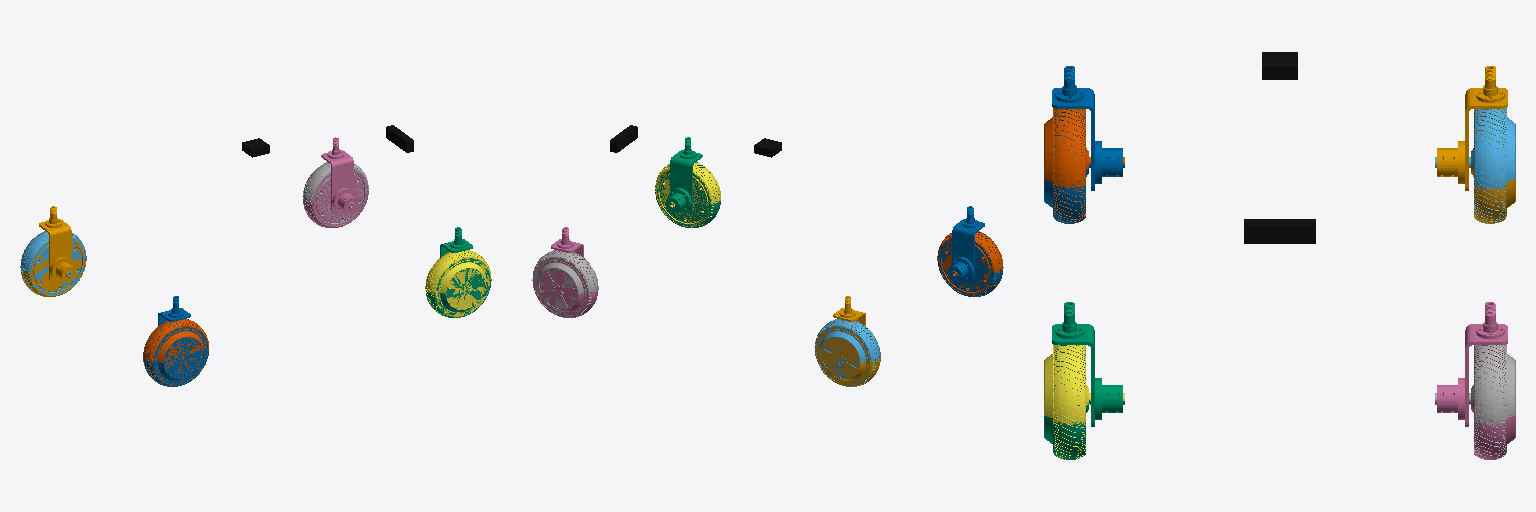
The robot description file, URDF, robot "new_rover":
<?xml version="1.0" encoding="utf-8"?>
<robot name="new_rover">

  <link name="base_link">
    <inertial>
      <origin xyz="0.00651 0 0.10801" rpy="0 0 0"/>
      <mass value="17.965"/>
      <inertia ixx="0.0928" ixy="0" ixz="0.00218" iyy="0.0718" iyz="0" izz="0.1320"/>
    </inertial>
    <visual>
      <origin xyz="0 0 0" rpy="0 0 0"/>
      <geometry>
        <mesh filename="package://webots_pkg_sim/meshes/base_link.STL"/>
      </geometry>
      <material name="gray"><color rgba="0.753 0.753 0.753 1"/></material>
    </visual>
    <collision>
      <geometry>
        <mesh filename="package://webots_pkg_sim/meshes/base_link.STL"/>
      </geometry>
    </collision>
  </link>

  <!-- ✅ IMU link -->
  <link name="imu_link">
    <inertial>
      <mass value="0.01"/>
      <inertia ixx="0.00001" ixy="0" ixz="0" iyy="0.00001" iyz="0" izz="0.00001"/>
    </inertial>
  </link>
  <joint name="imu_joint" type="fixed">
    <origin xyz="0 0 0.1" rpy="0 0 0"/>
    <parent link="base_link"/>
    <child link="imu_link"/>
  </joint>

  <!-- ✅ GPS link -->
  <link name="gps_link">
    <inertial>
      <mass value="0.01"/>
      <inertia ixx="0.00001" ixy="0" ixz="0" iyy="0.00001" iyz="0" izz="0.00001"/>
    </inertial>
    <visual>
      <geometry><box size="0.05 0.05 0.02"/></geometry>
      <material name="black"><color rgba="0.1 0.1 0.1 1"/></material>
    </visual>
  </link>
  <joint name="gps_joint" type="fixed">
    <origin xyz="0 0 0.22" rpy="0 0 0"/>
    <parent link="base_link"/>
    <child link="gps_link"/>
  </joint>

  <!-- ✅ OAK-D Camera body -->
  <link name="oakd_link">
    <inertial>
      <mass value="0.1"/>
      <inertia ixx="0.0001" ixy="0" ixz="0" iyy="0.0001" iyz="0" izz="0.0001"/>
    </inertial>
    <visual>
      <geometry><box size="0.02 0.1 0.03"/></geometry>
      <material name="black"><color rgba="0.1 0.1 0.1 1"/></material>
    </visual>
  </link>
  <joint name="oakd_joint" type="fixed">
    <origin xyz="0.4 0 0.15" rpy="0 0 0"/>
    <parent link="base_link"/>
    <child link="oakd_link"/>
  </joint>

  <!-- ✅ OAK-D RGB optical frame -->
  <link name="oakd_rgb_optical_link"/>
  <joint name="oakd_rgb_optical_joint" type="fixed">
    <origin xyz="0 0 0" rpy="-1.5708 0 -1.5708"/>
    <parent link="oakd_link"/>
    <child link="oakd_rgb_optical_link"/>
  </joint>

  <!-- ✅ OAK-D Depth optical frame (same pose as RGB for aligned depth) -->
  <link name="oakd_depth_optical_link"/>
  <joint name="oakd_depth_optical_joint" type="fixed">
    <origin xyz="0 0 0" rpy="-1.5708 0 -1.5708"/>
    <parent link="oakd_link"/>
    <child link="oakd_depth_optical_link"/>
  </joint>

  <!-- STEERING 1 (front left) -->
  <link name="steering1_Link">
    <inertial>
      <mass value="0.5"/>
      <inertia ixx="0.01" ixy="0" ixz="0" iyy="0.01" iyz="0" izz="0.01"/>
    </inertial>
    <visual>
      <geometry>
        <mesh filename="package://webots_pkg_sim/meshes/steering1_Link.STL"/>
      </geometry>
    </visual>
  </link>
  <joint name="steering1_joint" type="revolute">
    <origin xyz="0.34672 0.2949 0.041107" rpy="0 0 0"/>
    <parent link="base_link"/>
    <child link="steering1_Link"/>
    <axis xyz="0 0 1"/>
    <limit lower="-1.57" upper="1.57" effort="10" velocity="1.0"/>
  </joint>

  <!-- WHEEL 1 (front left) -->
  <link name="wheel1_Link">
    <inertial>
      <mass value="1.0"/>
      <inertia ixx="0.02" ixy="0" ixz="0" iyy="0.02" iyz="0" izz="0.02"/>
    </inertial>
    <visual>
      <geometry>
        <mesh filename="package://webots_pkg_sim/meshes/wheel1_Link.STL"/>
      </geometry>
    </visual>
    <collision>
      <geometry>
        <mesh filename="package://webots_pkg_sim/meshes/wheel1_Link.STL"/>
      </geometry>
    </collision>
  </link>
  <joint name="wheel1_joint" type="continuous">
    <origin xyz="0.045 -0.0782 -0.153784" rpy="0 0 0"/>
    <parent link="steering1_Link"/>
    <child link="wheel1_Link"/>
    <axis xyz="0 1 0"/>
  </joint>

  <!-- STEERING 2 (front right) -->
  <link name="steering2_Link">
    <inertial>
      <mass value="0.5"/>
      <inertia ixx="0.01" ixy="0" ixz="0" iyy="0.01" iyz="0" izz="0.01"/>
    </inertial>
    <visual>
      <geometry>
        <mesh filename="package://webots_pkg_sim/meshes/steering2_Link.STL"/>
      </geometry>
    </visual>
  </link>
  <joint name="steering2_joint" type="revolute">
    <origin xyz="-0.34672 0.2949 0.041107" rpy="0 0 0"/>
    <parent link="base_link"/>
    <child link="steering2_Link"/>
    <axis xyz="0 0 1"/>
    <limit lower="-1.57" upper="1.57" effort="10" velocity="1.0"/>
  </joint>

  <!-- WHEEL 2 (front right) -->
  <link name="wheel2_Link">
    <inertial>
      <mass value="1.0"/>
      <inertia ixx="0.02" ixy="0" ixz="0" iyy="0.02" iyz="0" izz="0.02"/>
    </inertial>
    <visual>
      <geometry>
        <mesh filename="package://webots_pkg_sim/meshes/wheel2_Link.STL"/>
      </geometry>
    </visual>
    <collision>
      <geometry>
        <mesh filename="package://webots_pkg_sim/meshes/wheel2_Link.STL"/>
      </geometry>
    </collision>
  </link>
  <joint name="wheel2_joint" type="continuous">
    <origin xyz="-0.045 -0.0782 -0.153783" rpy="0 0 0"/>
    <parent link="steering2_Link"/>
    <child link="wheel2_Link"/>
    <axis xyz="0 1 0"/>
  </joint>

  <!-- STEERING 3 (rear left) -->
  <link name="steering3_Link">
    <inertial>
      <mass value="0.5"/>
      <inertia ixx="0.01" ixy="0" ixz="0" iyy="0.01" iyz="0" izz="0.01"/>
    </inertial>
    <visual>
      <geometry>
        <mesh filename="package://webots_pkg_sim/meshes/steering3_Link.STL"/>
      </geometry>
    </visual>
  </link>
  <joint name="steering3_joint" type="revolute">
    <origin xyz="0.34672 -0.2949 0.041107" rpy="0 0 0"/>
    <parent link="base_link"/>
    <child link="steering3_Link"/>
    <axis xyz="0 0 1"/>
    <limit lower="-1.57" upper="1.57" effort="10" velocity="1.0"/>
  </joint>

  <!-- WHEEL 3 (rear left) -->
  <link name="wheel3_Link">
    <inertial>
      <mass value="1.0"/>
      <inertia ixx="0.02" ixy="0" ixz="0" iyy="0.02" iyz="0" izz="0.02"/>
    </inertial>
    <visual>
      <geometry>
        <mesh filename="package://webots_pkg_sim/meshes/wheel3_Link.STL"/>
      </geometry>
    </visual>
    <collision>
      <geometry>
        <mesh filename="package://webots_pkg_sim/meshes/wheel3_Link.STL"/>
      </geometry>
    </collision>
  </link>
  <joint name="wheel3_joint" type="continuous">
    <origin xyz="0.045 0.0782 -0.153782" rpy="0 0 0"/>
    <parent link="steering3_Link"/>
    <child link="wheel3_Link"/>
    <axis xyz="0 -1 0"/>
  </joint>

  <!-- STEERING 4 (rear right) -->
  <link name="steering4_Link">
    <inertial>
      <mass value="0.5"/>
      <inertia ixx="0.01" ixy="0" ixz="0" iyy="0.01" iyz="0" izz="0.01"/>
    </inertial>
    <visual>
      <geometry>
        <mesh filename="package://webots_pkg_sim/meshes/steering4_Link.STL"/>
      </geometry>
    </visual>
  </link>
  <joint name="steering4_joint" type="revolute">
    <origin xyz="-0.34672 -0.2949 0.041107" rpy="0 0 0"/>
    <parent link="base_link"/>
    <child link="steering4_Link"/>
    <axis xyz="0 0 1"/>
    <limit lower="-1.57" upper="1.57" effort="10" velocity="1.0"/>
  </joint>

  <!-- WHEEL 4 (rear right) -->
  <link name="wheel4_Link">
    <inertial>
      <mass value="1.0"/>
      <inertia ixx="0.02" ixy="0" ixz="0" iyy="0.02" iyz="0" izz="0.02"/>
    </inertial>
    <visual>
      <geometry>
        <mesh filename="package://webots_pkg_sim/meshes/wheel4_Link.STL"/>
      </geometry>
    </visual>
    <collision>
      <geometry>
        <mesh filename="package://webots_pkg_sim/meshes/wheel4_Link.STL"/>
      </geometry>
    </collision>
  </link>
  <joint name="wheel4_joint" type="continuous">
    <origin xyz="-0.045 0.0782 -0.153782" rpy="0 0 0"/>
    <parent link="steering4_Link"/>
    <child link="wheel4_Link"/>
    <axis xyz="0 -1 0"/>
  </joint>

  <!-- Webots plugin -->
  <webots>
    <plugin type="webots_pkg_sim.swerve_driver.RoverDriverSwerve"/>
  </webots>

</robot>

--- Render facts (derived) ---
Views: 3 orthographic renders of the robot side by side, from view 1: azimuth 30°, elevation 25°; view 2: azimuth 150°, elevation 25°; view 3: azimuth 270°, elevation 25°.
Robot: new_rover — 14 links, 13 joints (4 revolute, 4 continuous, 5 fixed); root link base_link; default pose: all joints at 0.
Links seen in each view (by area): view 1: steering1_Link, steering2_Link, wheel3_Link, steering4_Link, wheel4_Link, steering3_Link, wheel2_Link, wheel1_Link; view 2: steering4_Link, steering3_Link, steering2_Link, steering1_Link, wheel1_Link, wheel2_Link, wheel3_Link, wheel4_Link; view 3: steering1_Link, steering4_Link, steering2_Link, steering3_Link, wheel2_Link, wheel3_Link, wheel4_Link, wheel1_Link, oakd_link, gps_link.
Link boxes in pixels (x1,y1,x2,y2): steering1_Link: (303,137,368,227); steering2_Link: (20,206,86,296); wheel3_Link: (425,250,490,317); steering4_Link: (143,296,208,386); wheel4_Link: (143,319,208,386); steering3_Link: (425,227,491,317); wheel2_Link: (20,231,86,296); wheel1_Link: (303,162,368,227); steering4_Link: (937,206,1002,296); steering3_Link: (655,137,720,227); steering2_Link: (815,296,880,386); steering1_Link: (533,227,598,317); wheel1_Link: (532,250,598,317); wheel2_Link: (815,319,880,386); wheel3_Link: (655,162,720,227); wheel4_Link: (937,231,1003,296); steering1_Link: (1435,302,1515,459); steering4_Link: (1044,66,1124,223); steering2_Link: (1435,66,1515,223); steering3_Link: (1044,302,1124,459); wheel2_Link: (1435,108,1515,223); wheel3_Link: (1044,344,1124,459); wheel4_Link: (1044,108,1124,223); wheel1_Link: (1435,344,1515,459); oakd_link: (1244,219,1315,243); gps_link: (1262,52,1297,79).
Size in the robot's own frame: 0.9554 by 0.6602 by 0.4286 metres.
Meshes: 9 distinct files referenced, 8 mesh visuals loaded (8 binary STL); not drawn: 1 (reference not matched to a file when rendering).
